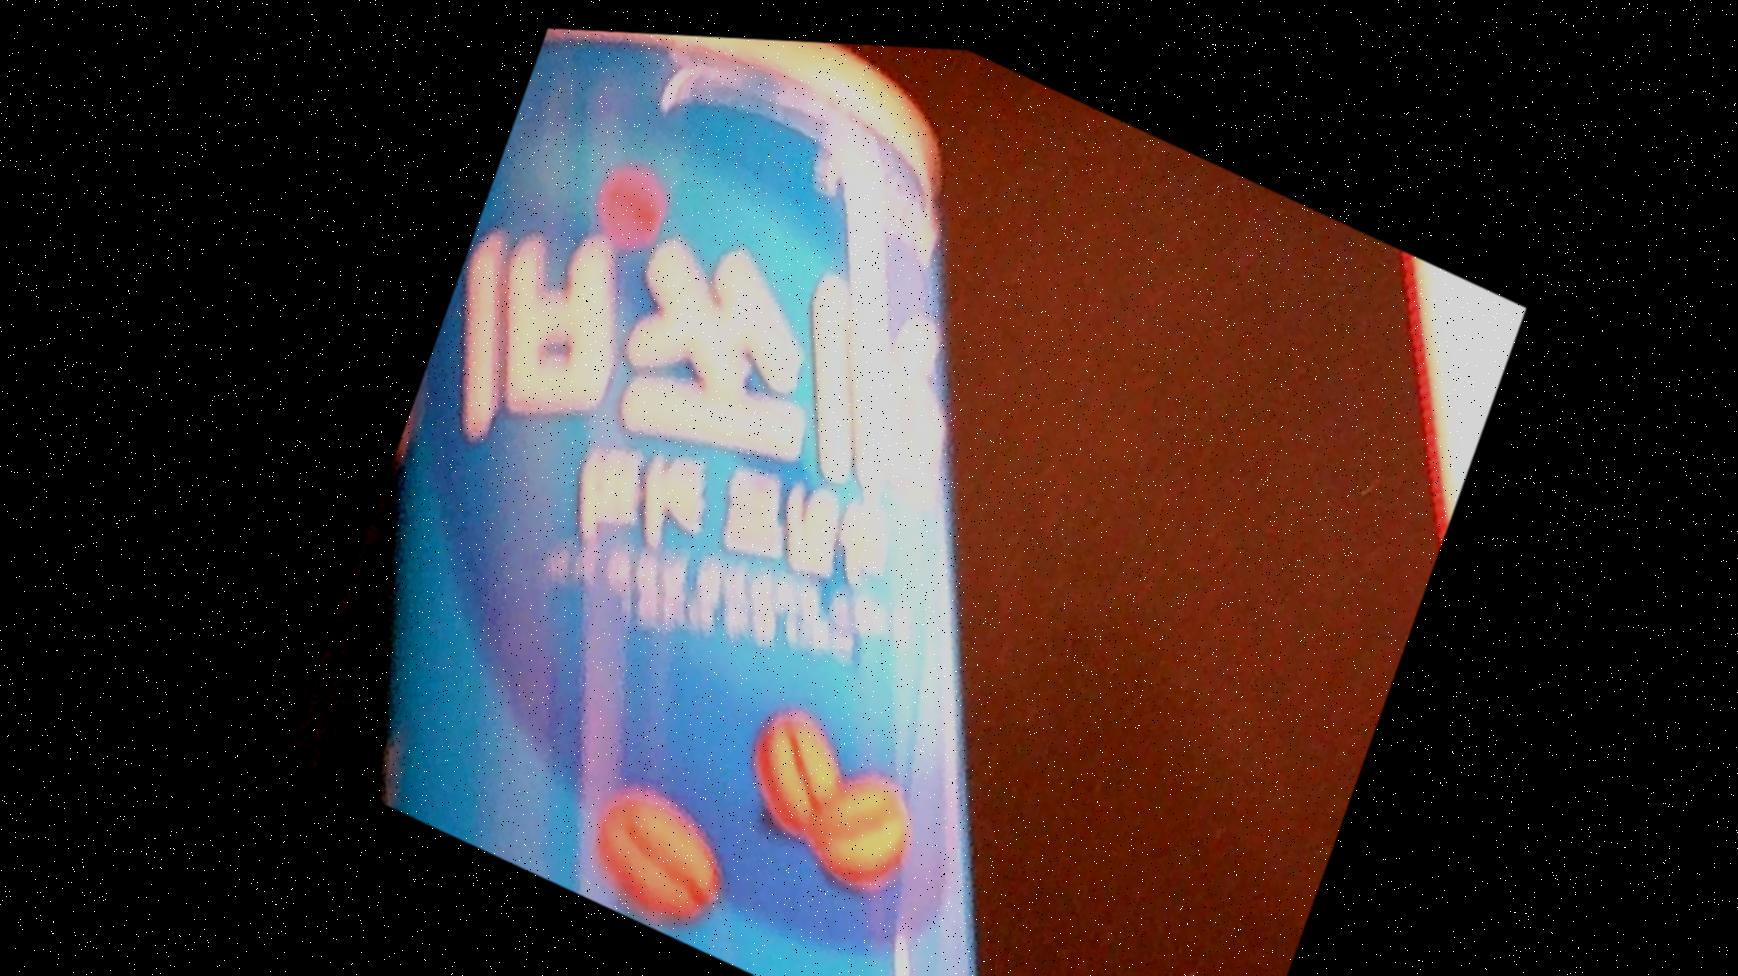letsbe: (229, 9, 1361, 976)
